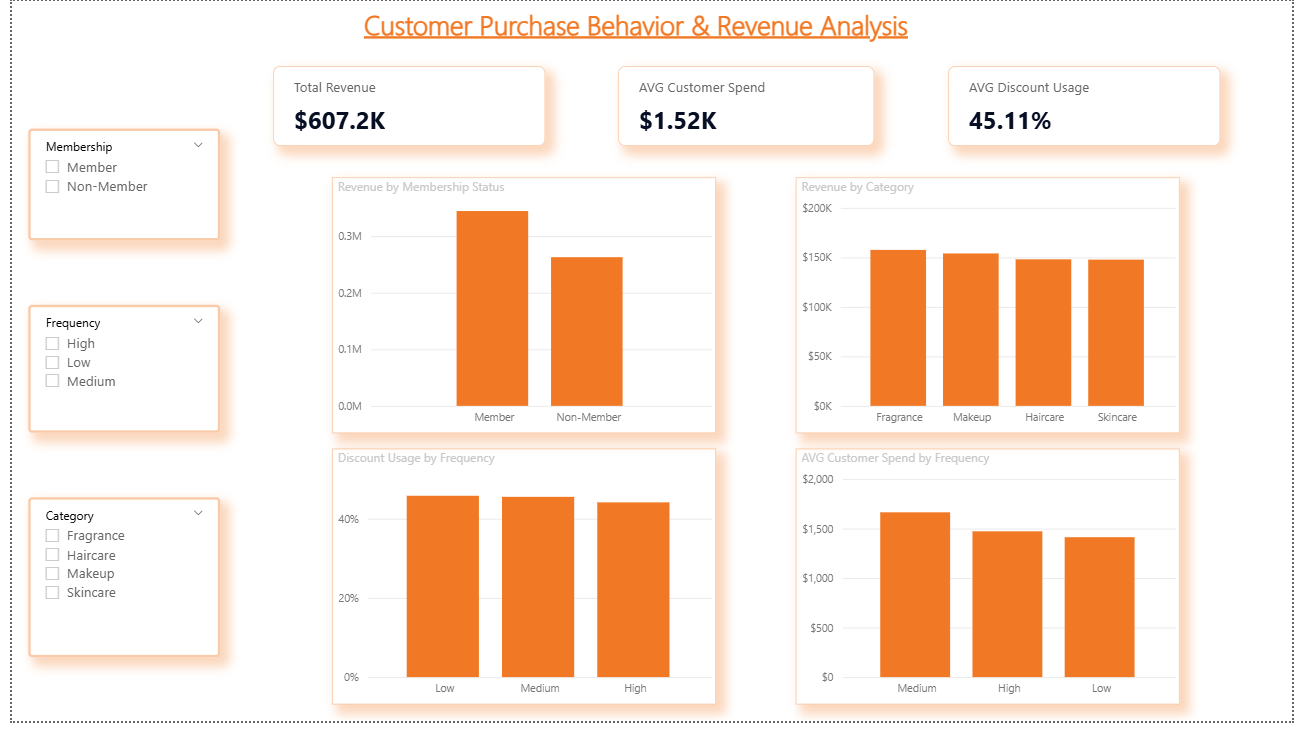

What the dashboard file says about the page in this screenshot:
{"tool":"powerbi","page":{"name":"Page 1","canvas":[1280,720],"ordinal":0},"visuals":[{"type":"cardVisual","fields":{"Data":["fashion_retail_customers.Total Revenue"]},"box":[261.5,65.4,272,80],"z":0},{"type":"cardVisual","fields":{"Data":["fashion_retail_customers.AVG Customer Spend"]},"box":[606.7,65.4,256,80],"z":1000},{"type":"cardVisual","fields":{"Data":["fashion_retail_customers.AVG Discount Usage"]},"box":[936,65.4,272,80],"z":2000},{"type":"clusteredColumnChart","title":"Revenue by Category","fields":{"Category":["fashion_retail_customers.preferred_category"],"Y":["fashion_retail_customers.Total Revenue"]},"box":[784,176,384,256],"z":3000},{"type":"clusteredColumnChart","title":"AVG Customer Spend by Frequency","fields":{"Category":["fashion_retail_customers.purchase_frequency"],"Y":["fashion_retail_customers.AVG Customer Spend"]},"box":[784,448,384,256],"z":4000},{"type":"clusteredColumnChart","title":"Discount Usage by Frequency","fields":{"Category":["fashion_retail_customers.purchase_frequency"],"Y":["fashion_retail_customers.AVG Discount Usage"]},"box":[320,448,384,256],"z":5000},{"type":"slicer","fields":{"Values":["fashion_retail_customers.membership_status"]},"box":[16,128,192,112],"z":6000},{"type":"slicer","fields":{"Values":["fashion_retail_customers.purchase_frequency"]},"box":[16,304,192,128],"z":7000},{"type":"slicer","fields":{"Values":["fashion_retail_customers.preferred_category"]},"box":[16,496,192,160],"z":8000},{"type":"clusteredColumnChart","title":"Revenue by Membership Status","fields":{"Category":["fashion_retail_customers.membership_status"],"Y":["Sum(fashion_retail_customers.total_spent)"]},"box":[320,176,384,256],"z":9000},{"type":"textbox","box":[240,0,768,48],"z":10000}]}

Visuals, with their boxes in screenshot pixels (x1, y1, x2, y2), scaled from the page's 1280x720 canvas onto the 1300x730 screenshot:
cardVisual - fashion_retail_customers.Total Revenue: 266/66/542/147
cardVisual - fashion_retail_customers.AVG Customer Spend: 616/66/876/147
cardVisual - fashion_retail_customers.AVG Discount Usage: 951/66/1227/147
"Revenue by Category" clusteredColumnChart: 796/178/1186/438
"AVG Customer Spend by Frequency" clusteredColumnChart: 796/454/1186/714
"Discount Usage by Frequency" clusteredColumnChart: 325/454/715/714
slicer - fashion_retail_customers.membership_status: 16/130/211/243
slicer - fashion_retail_customers.purchase_frequency: 16/308/211/438
slicer - fashion_retail_customers.preferred_category: 16/503/211/665
"Revenue by Membership Status" clusteredColumnChart: 325/178/715/438
textbox: 244/0/1024/49
